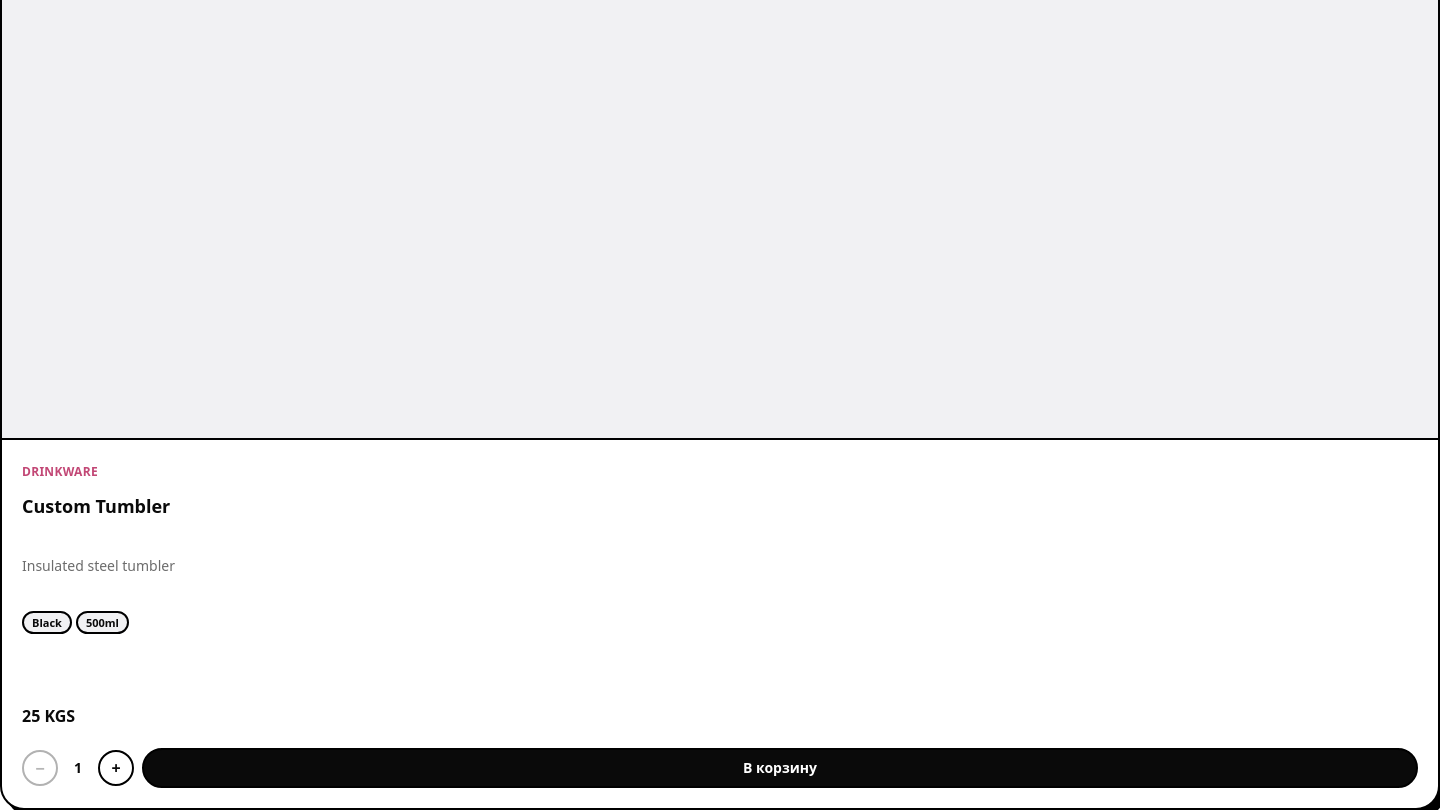
Test: ProductCard › adds the selected quantity and resets the stepper afterwards
(page scrolled)
Step 1. Click the button named "Увеличить количество" → x=116, y=768, box [98,750,134,786]
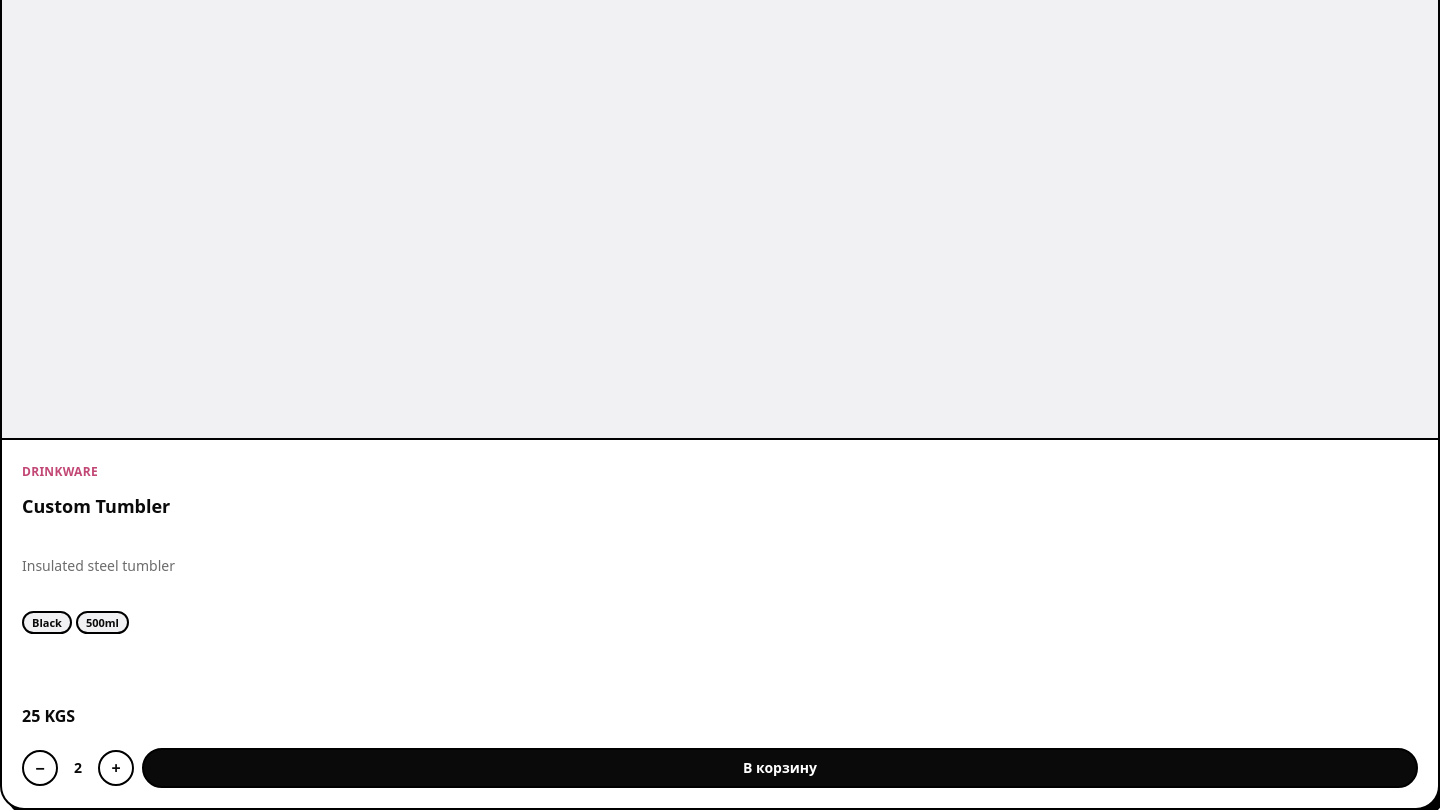
Step 2. Click the button named "Увеличить количество" → x=116, y=768, box [98,750,134,786]
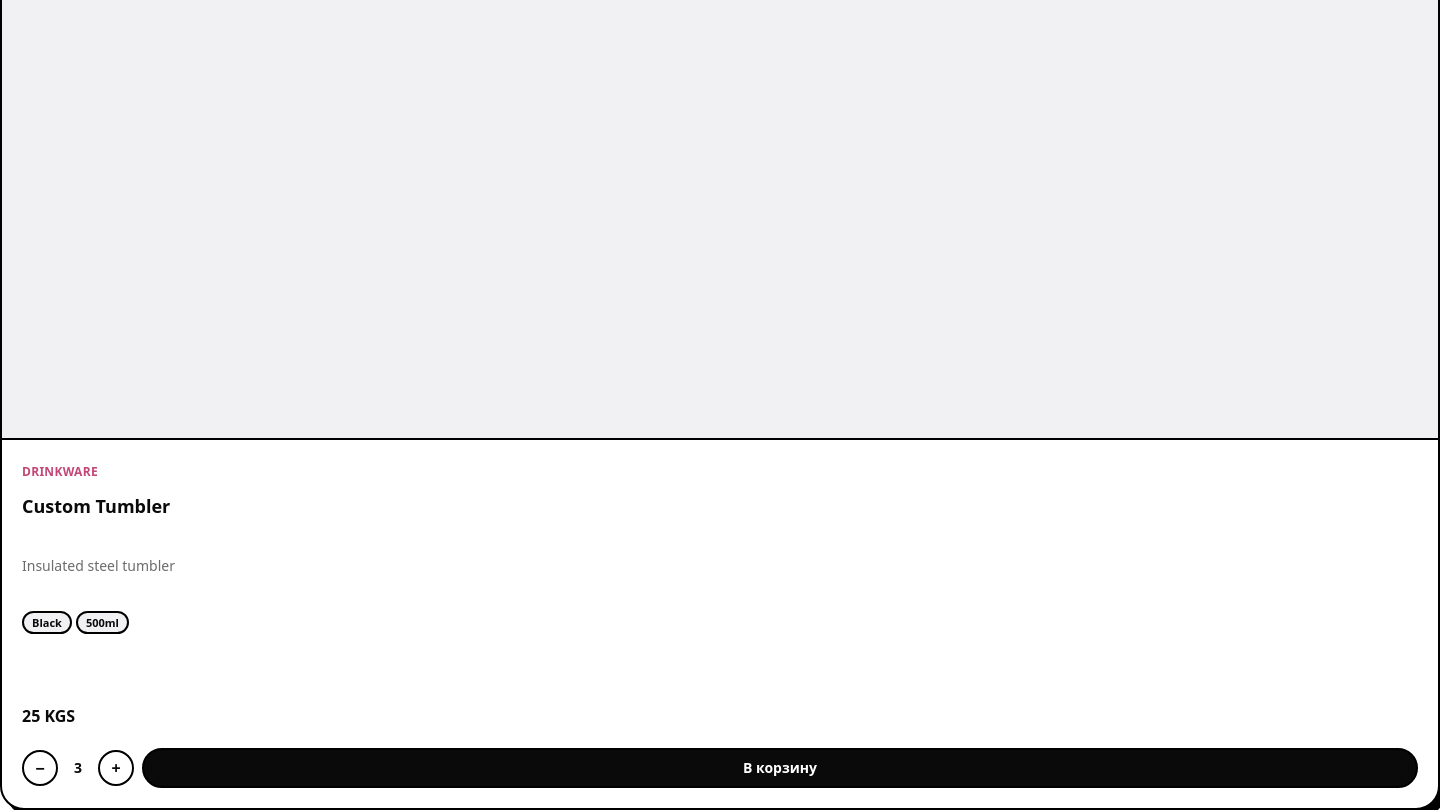
Expected: the text "3" is shown, [74,758,82,777]
Step 3. Click the button named "Уменьшить количество" → x=40, y=768, box [22,750,58,786]
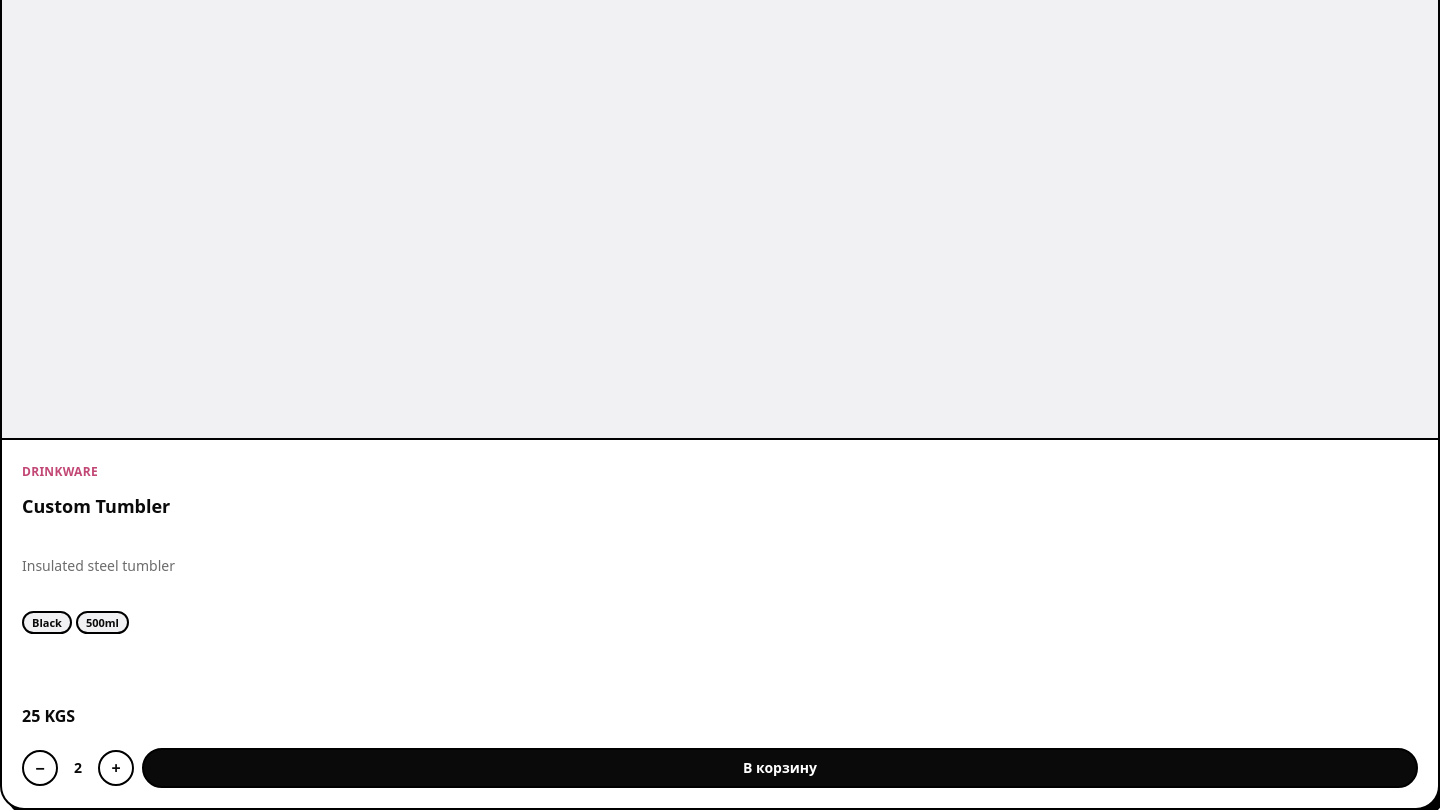
Step 4. Click the button "В корзину" → x=780, y=768, box [142,748,1418,788]
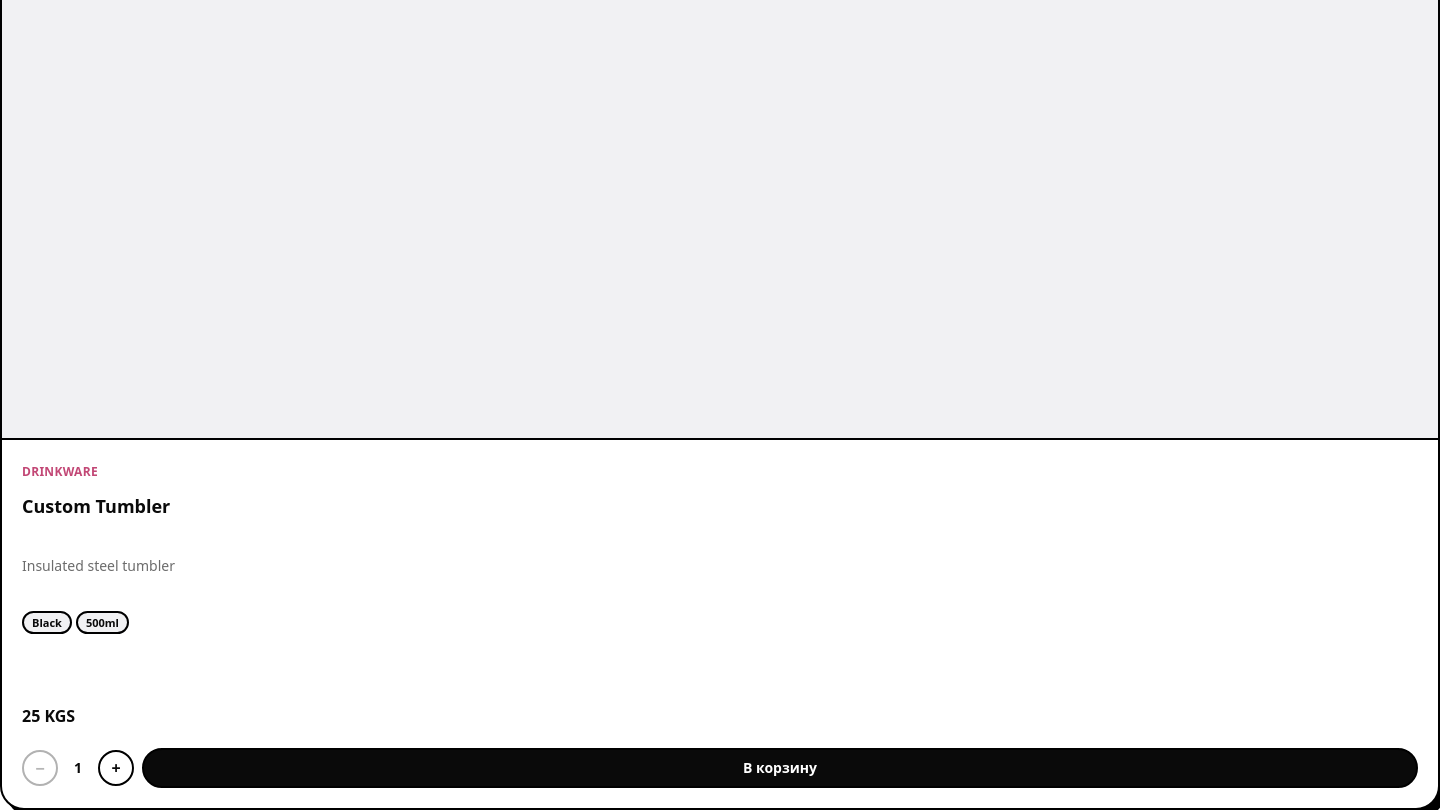
Expected: the text "1" is shown, [74,758,82,777]
Expected: the button named "Уменьшить количество" is disabled, [22,750,58,786]
